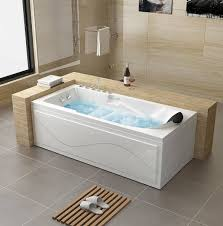bathub: (30, 81, 199, 192)
